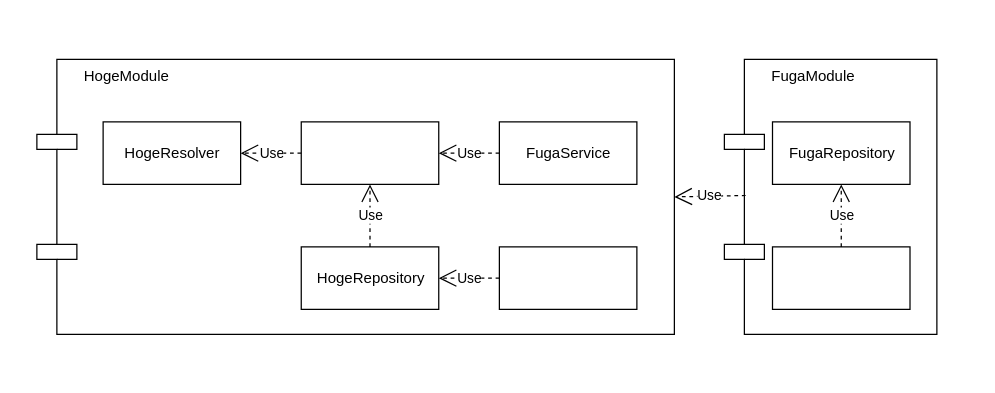
Some shapes in this 995 by 393 pixel diagram are drawn without their labels. The box of each missing label's shape, as (x1, y1, x2, y2) in pixels:
FugaEntity: (771, 246, 910, 309)
HogeEntity: (498, 246, 637, 309)
HogeService: (300, 121, 439, 184)
